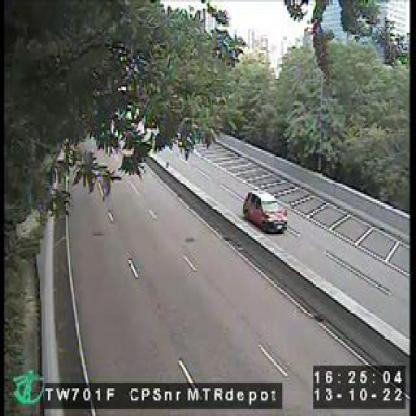Car: (244, 189, 287, 233)
